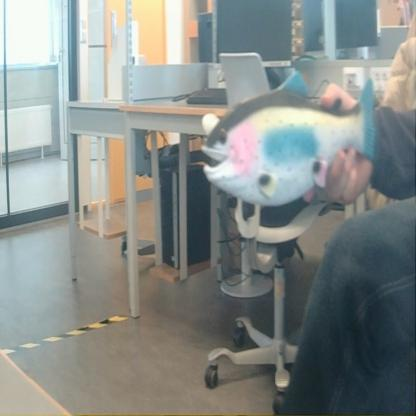rubberfish: (195, 68, 381, 212)
